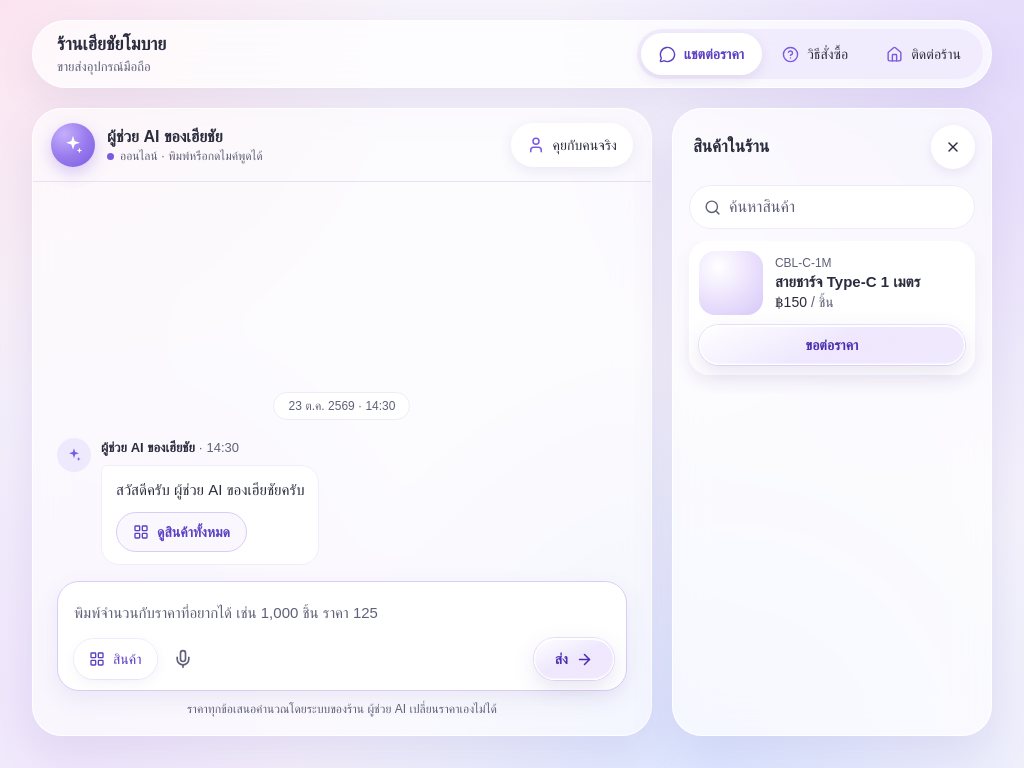
Test: ChatScreen — แชตจริง (ผ่าน API) › ไมค์ (เฟส 6) › ไม่อนุญาตไมค์ → บอกให้พิมพ์แทน ไม่ส่งอะไร
Click the button named "พูดด้วยเสียง" at coordinates (182, 659), box 162,639 -> 202,679
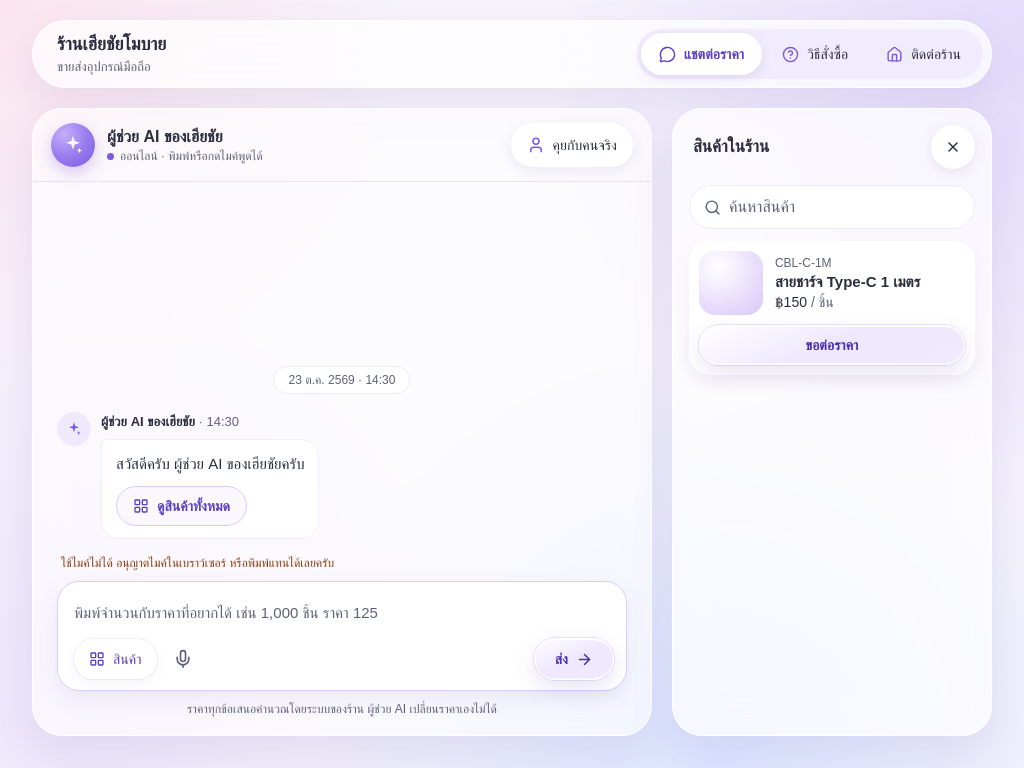
Expected: the text "ใช้ไมค์ไม่ได้ อนุญาตไมค์ในเบราว์เซอร์ หรือพิมพ์แทนได้เลยครับ" is shown, 61,556 -> 334,570
